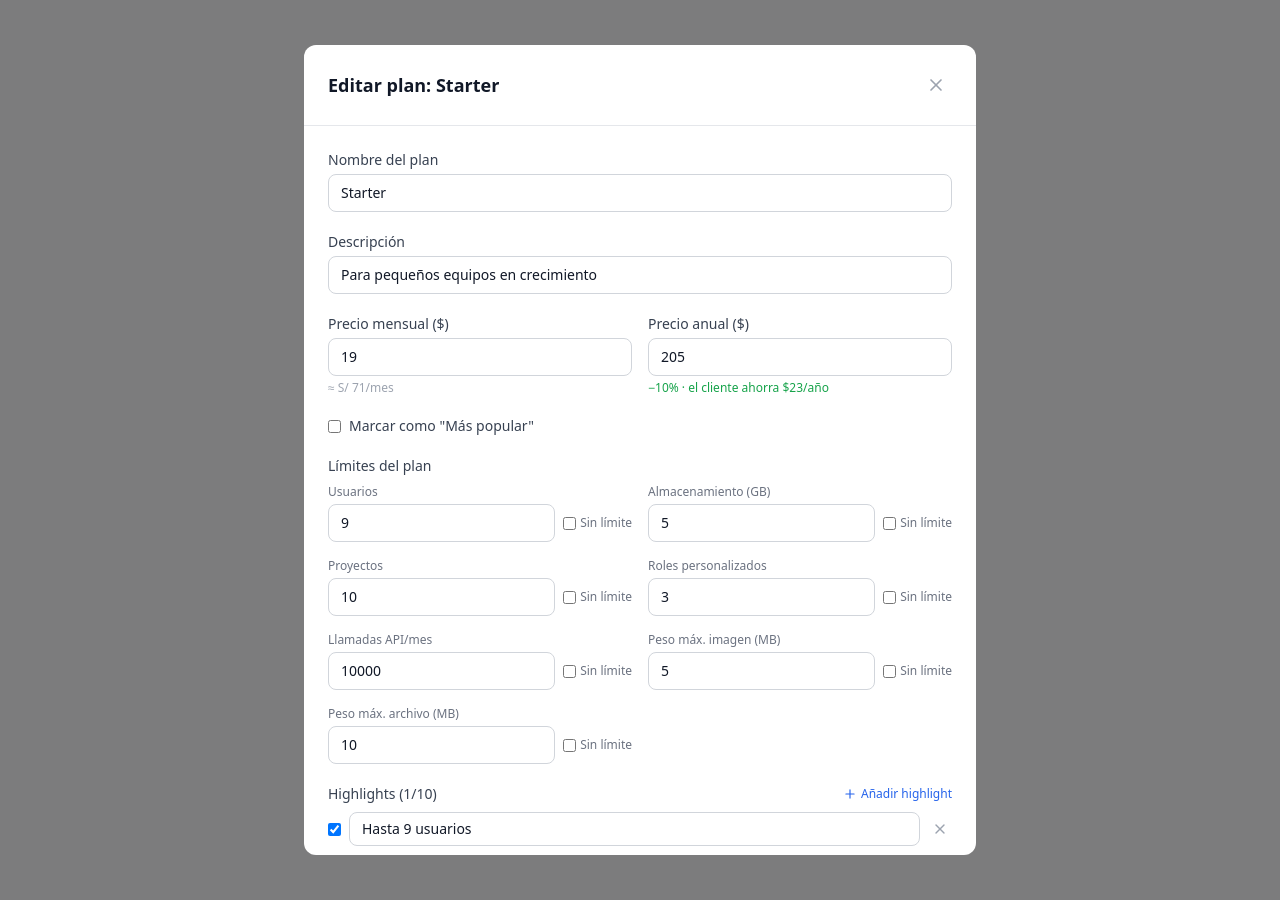
it: PlanEditModal — errores del backend › muestra un banner genérico ante un error sin forma de campo
Replace the text in the number field labelled "Precio anual ($)" with "200" at (800, 357), box [648,338,952,376]
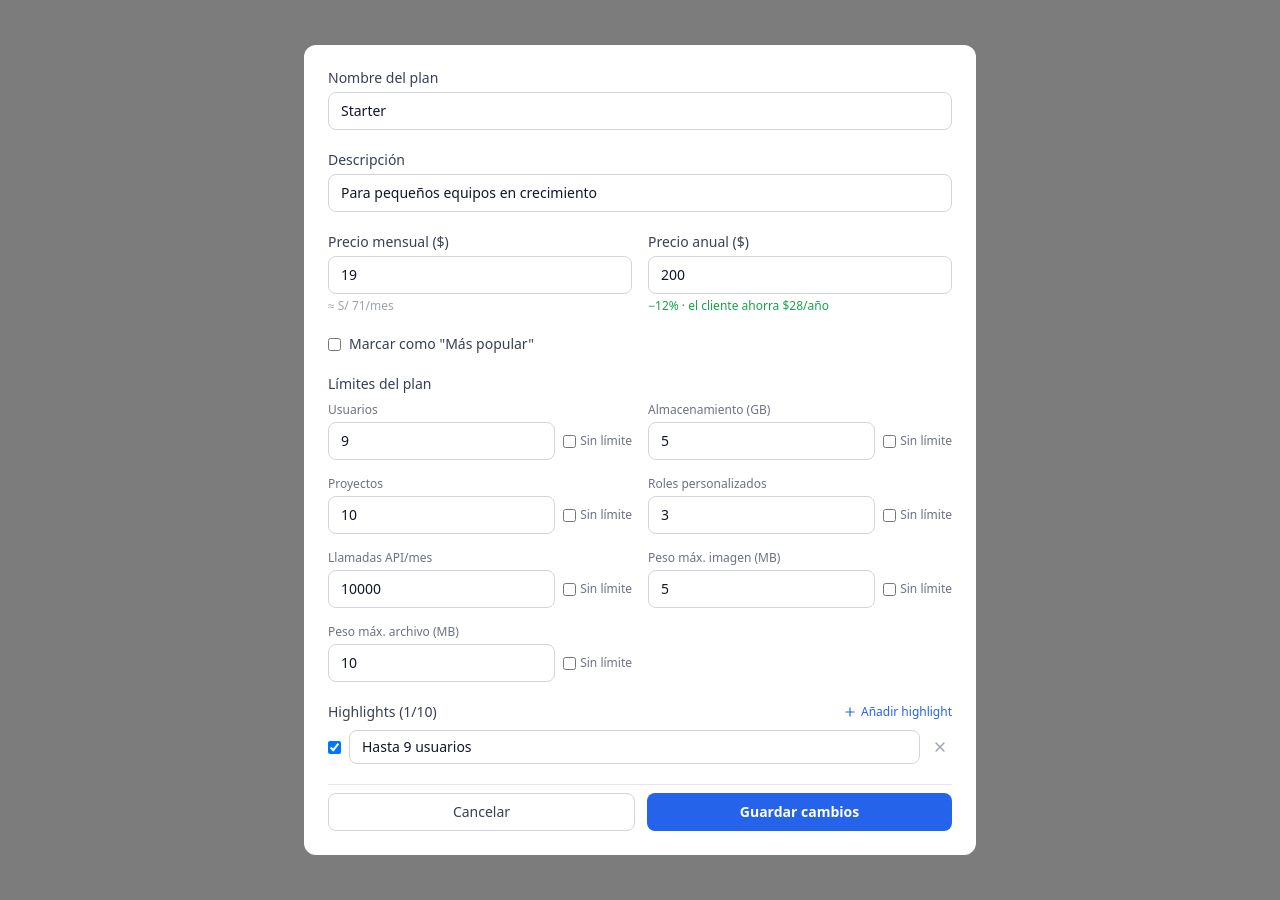
Click the button "Guardar cambios" at (800, 812), box [647,793,952,831]
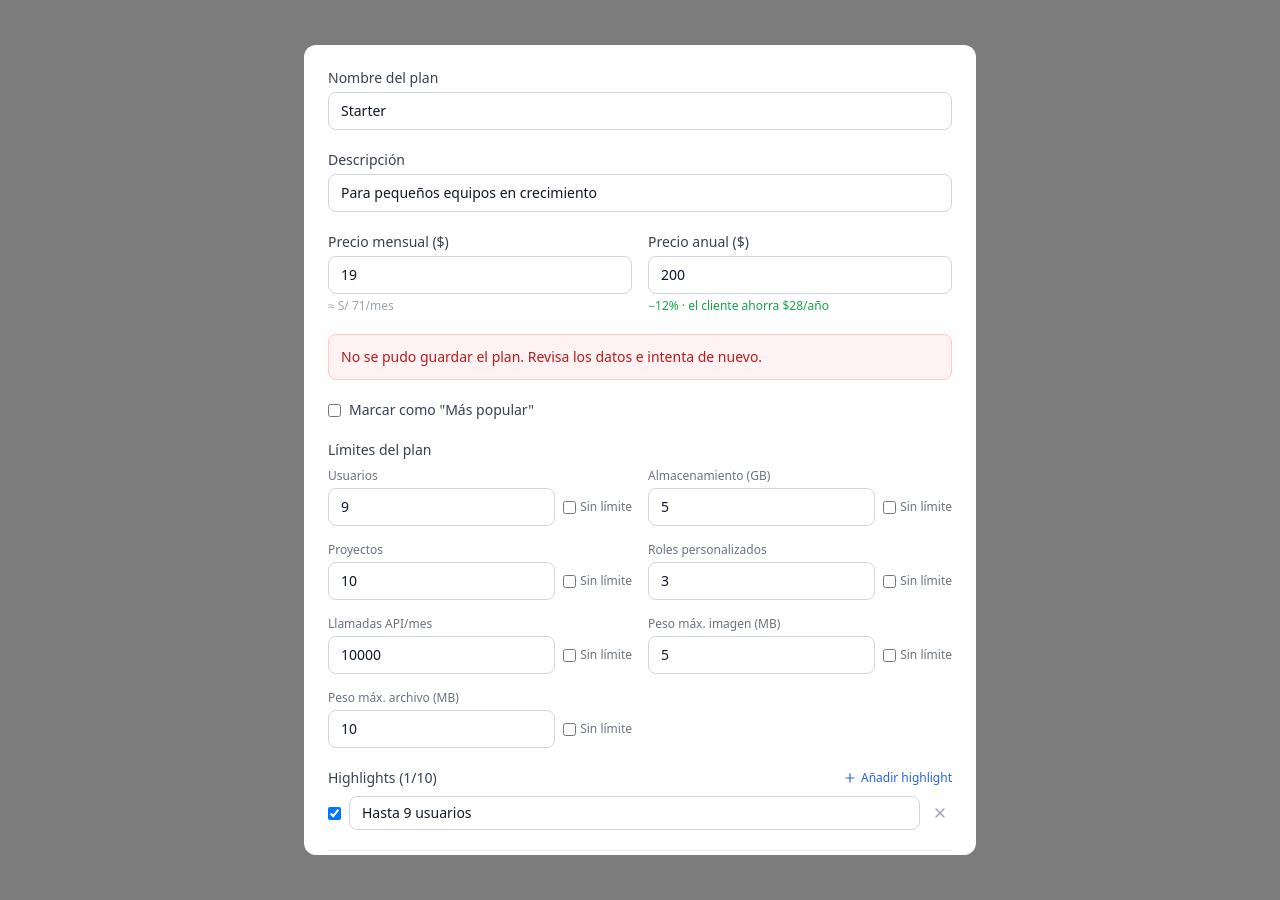
Expected: the message shows "No se pudo guardar el plan", [341,347,762,366]
